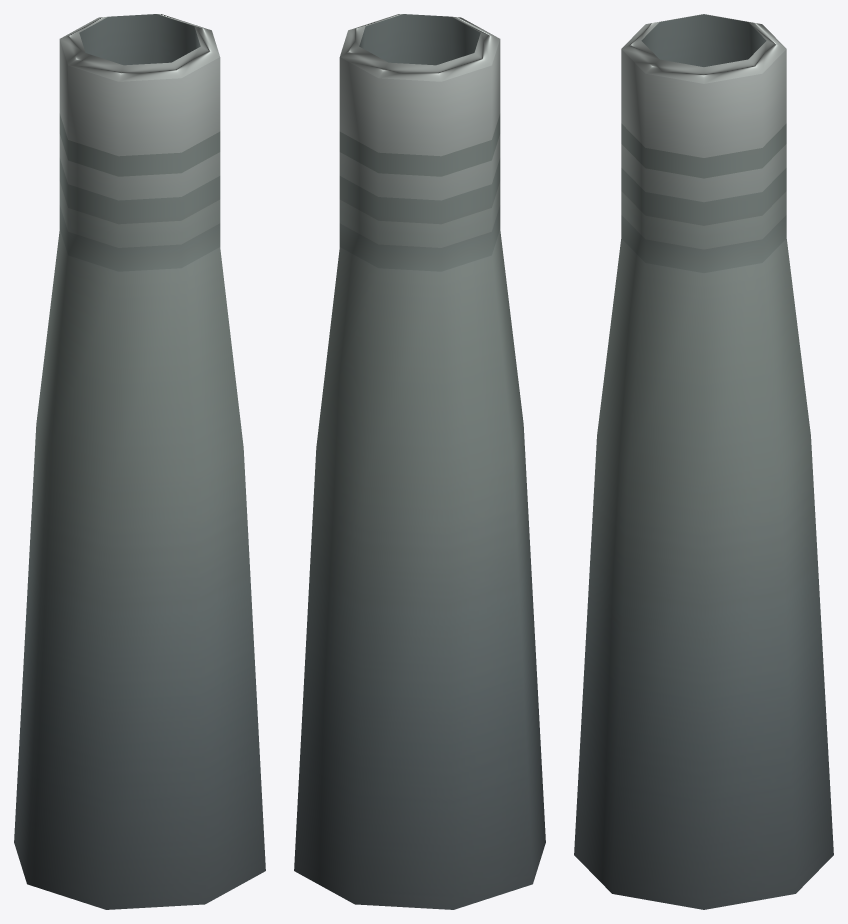
The model's file is chimeny.fbx.
The picture shows the model from 3 angles, left to right: view 1: azimuth 30°, elevation 25°; view 2: azimuth 150°, elevation 25°; view 3: azimuth 270°, elevation 25°; orthographic projection.
Parts seen in each view (by area): view 1: chimeny; view 2: chimeny; view 3: chimeny.
Boxes of the visible parts, <box> form: chimeny: <box>14,14,265,909</box>; chimeny: <box>294,14,545,909</box>; chimeny: <box>574,14,833,909</box>.
Size of the model in its own units: 69.1 by 239 by 69.1.
